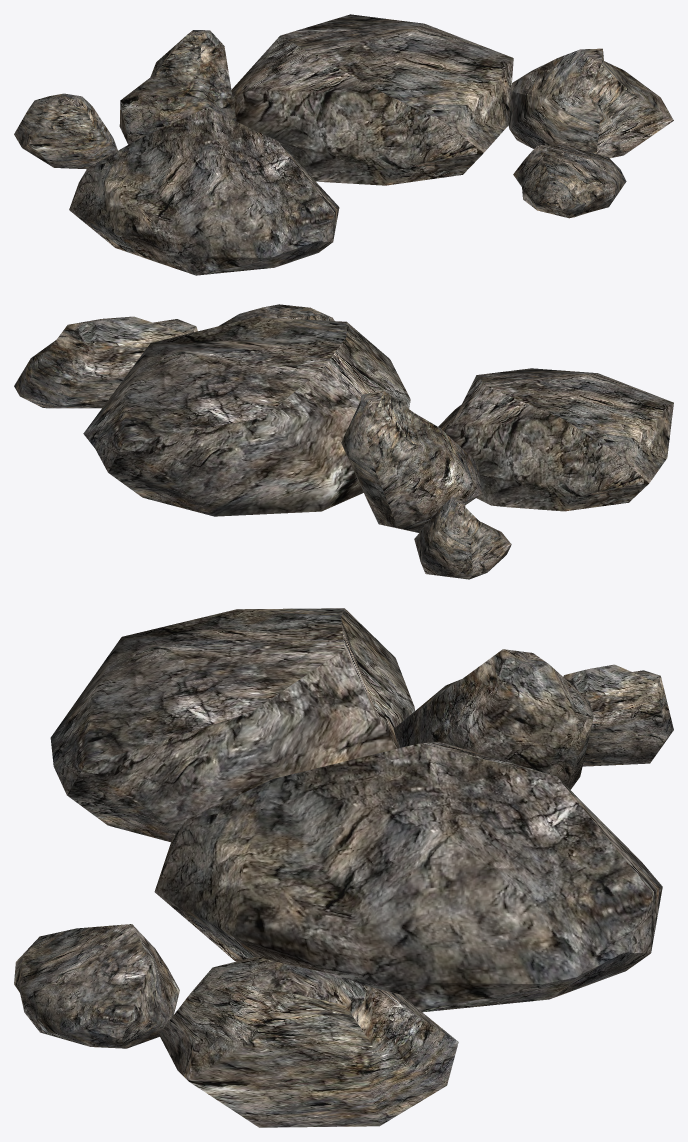
File: pir_m_prp_cav_rockGroup_k.fbx
3 views of the same model, one above another, from view 1: azimuth 30°, elevation 25°; view 2: azimuth 150°, elevation 25°; view 3: azimuth 270°, elevation 25° (orthographic). The views are drawn at different scales.
Parts seen in each view (by area): view 1: rock_2, rock_3, rock_4, rock_1, rock_6, rock_5; view 2: rock_2, rock_3, rock_1, rock_4, rock_5, rock_6; view 3: rock_2, rock_3, rock_4, rock_6, rock_1, rock_5.
Part boxes in pixels (box(x1,y1,x2,y2)): rock_2: box(231, 14, 513, 185); rock_3: box(69, 107, 339, 275); rock_4: box(508, 48, 673, 158); rock_1: box(119, 30, 236, 144); rock_6: box(513, 144, 626, 218); rock_5: box(14, 93, 117, 169); rock_2: box(83, 317, 410, 516); rock_3: box(438, 368, 673, 511); rock_1: box(341, 390, 481, 532); rock_4: box(14, 316, 197, 408); rock_5: box(414, 497, 511, 579); rock_6: box(219, 304, 334, 325); rock_2: box(154, 741, 662, 1012); rock_3: box(50, 608, 414, 842); rock_4: box(159, 956, 458, 1127); rock_6: box(14, 924, 179, 1048); rock_1: box(394, 649, 593, 789); rock_5: box(563, 664, 673, 766).
Bounding box in the file's own units: 1387 × 308 × 887.
1 material, 1 textured.
